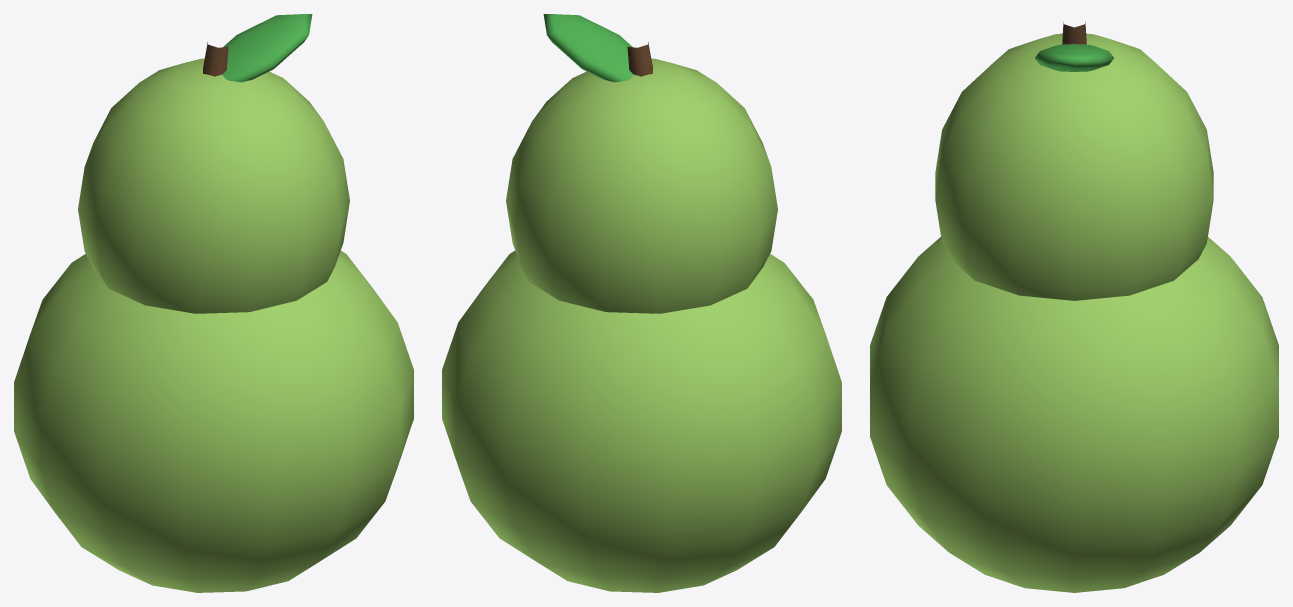
The model's file is pear.glb.
3 views of the same model, side by side, from view 1: azimuth 30°, elevation 25°; view 2: azimuth 150°, elevation 25°; view 3: azimuth 270°, elevation 25° (orthographic). The views are drawn at different scales.
Parts seen in each view (by area): view 1: match/pear; view 2: match/pear; view 3: match/pear.
Boxes of the visible parts, left/top/right/bottom form: match/pear: left=14, top=14, right=413, bottom=592; match/pear: left=442, top=14, right=841, bottom=592; match/pear: left=870, top=22, right=1278, bottom=592.
Size of the model in its own units: 0.6738 by 1 by 0.6568.
